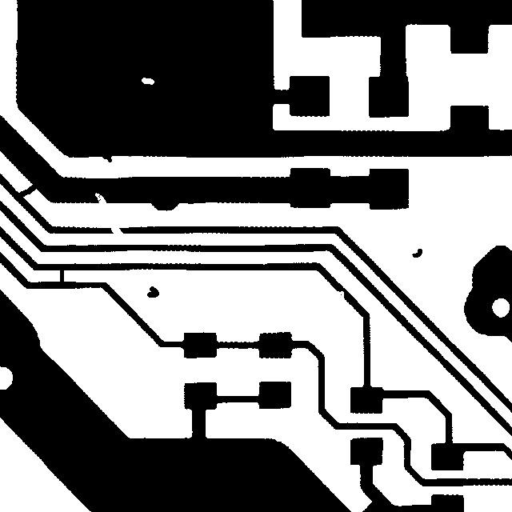copper: (139, 278, 166, 305), (404, 241, 430, 265)
mousebite: (87, 185, 114, 214), (329, 283, 351, 306)
open: (102, 216, 131, 244)
pin-hole: (134, 70, 162, 92)
short: (7, 175, 45, 207), (52, 258, 72, 292)
spur: (94, 146, 119, 170)
